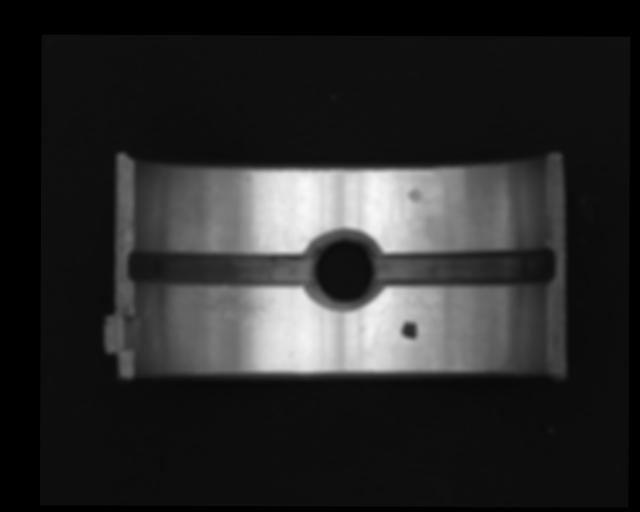blot: (400, 319, 417, 340)
bruise: (407, 187, 423, 204)
gap: (126, 250, 313, 287), (376, 250, 554, 287)
hole: (307, 234, 383, 307)
nick: (260, 188, 272, 247)
scratch: (183, 287, 265, 330)
